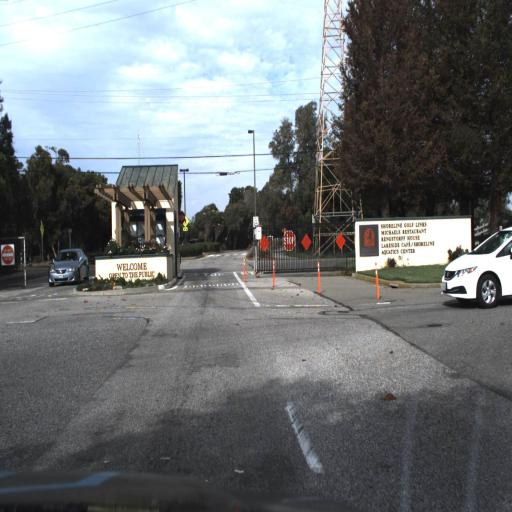car: (441, 220, 510, 306), (45, 244, 87, 285)
